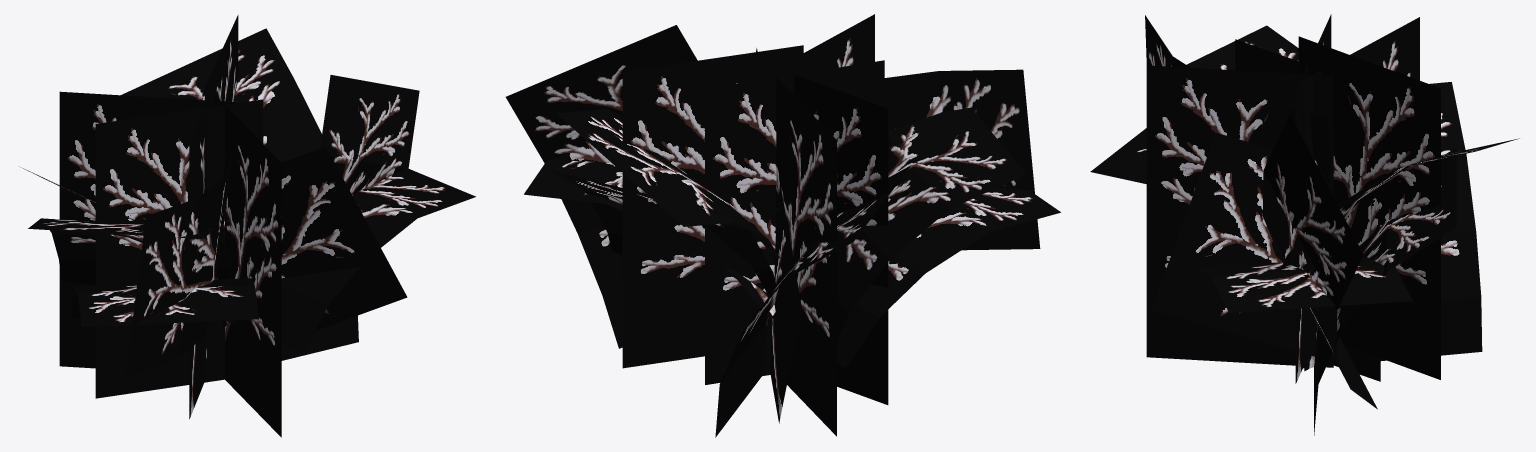
File: bush_2.fbx
3 views of the same model, side by side, from view 1: azimuth 30°, elevation 25°; view 2: azimuth 150°, elevation 25°; view 3: azimuth 270°, elevation 25° (orthographic). The views are drawn at different scales.
Parts seen in each view (by area): view 1: stickbush_2_bush; view 2: stickbush_2_bush; view 3: stickbush_2_bush.
Boxes of the visible parts, x1,y1,x2,y2 form: stickbush_2_bush: (19,15,475,437); stickbush_2_bush: (505,14,1060,437); stickbush_2_bush: (1090,14,1519,435).
Bounding box in the file's own units: 167 × 117 × 134.
